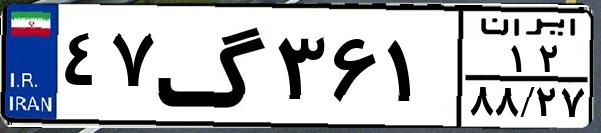1: (385, 28, 445, 110), (508, 27, 537, 80)
2: (537, 27, 568, 80), (535, 70, 560, 125)
3: (270, 28, 330, 110)
4: (57, 26, 110, 100)
6: (330, 28, 385, 110)
7: (110, 28, 156, 98), (560, 70, 590, 125)
8: (470, 70, 495, 125), (495, 70, 520, 125)
گ: (156, 12, 270, 120)
